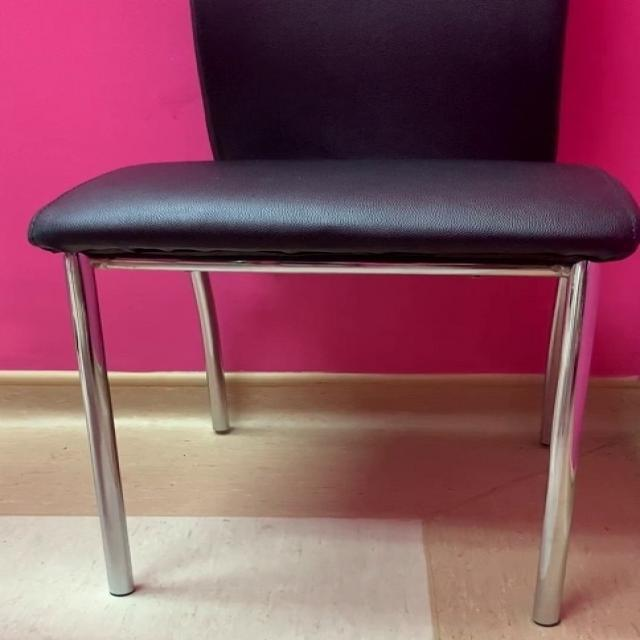chair: (28, 4, 632, 626)
